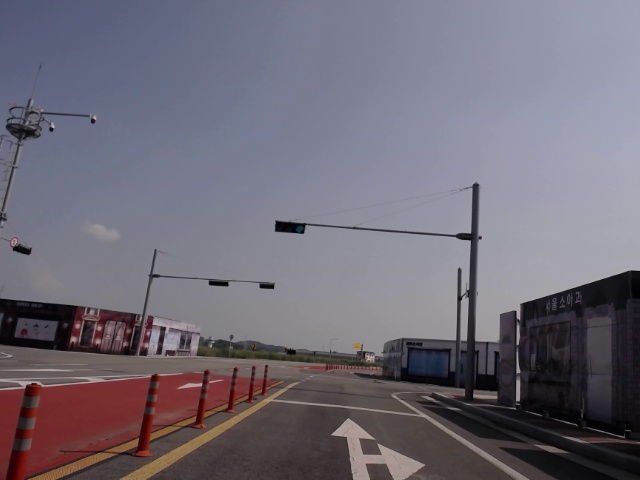green_3: (274, 221, 306, 234)
